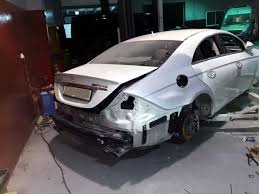Broken-glass: (114, 91, 142, 119)
Smashed: (51, 100, 138, 155)
